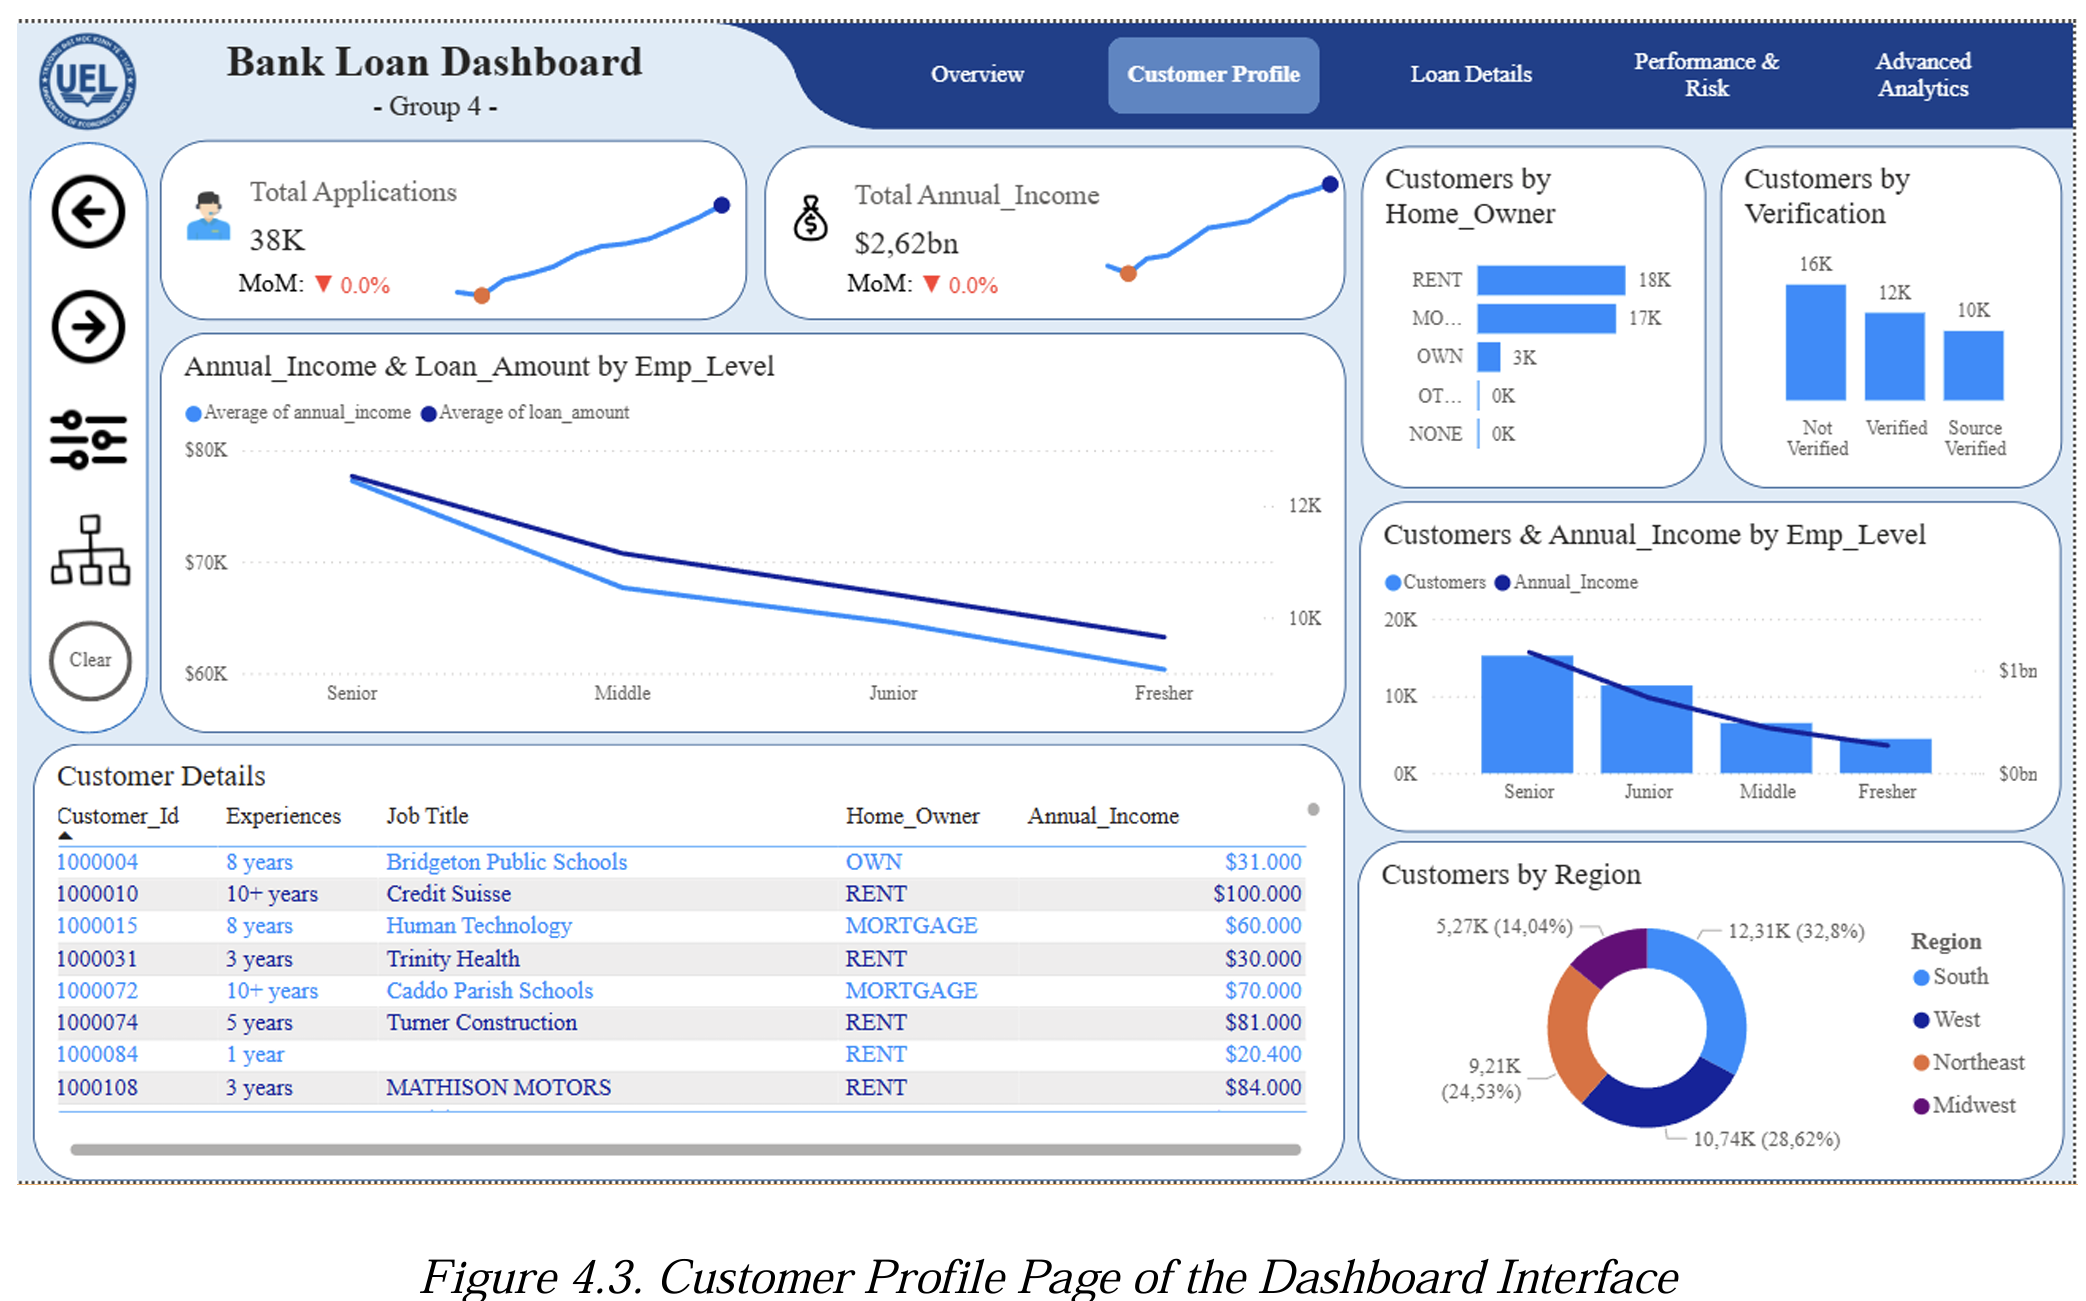

This screenshot's page, from the dashboard's own definition file:
{"tool":"powerbi","page":{"name":"Customer Profile","canvas":[1280,720],"ordinal":2},"visuals":[{"type":"shape","box":[0,0,1280,720],"z":0},{"type":"shape","box":[482,0,792,66],"z":0,"group":"g5"},{"type":"pageNavigator","box":[532.5,8.8,132.6,48.8],"z":0,"group":"g6"},{"type":"group","id":"g1","title":"Group 7","box":[88.6,72.9,365.9,111.8],"z":0,"group":"g7"},{"type":"group","id":"g2","title":"Group 9","box":[88.6,72.9,365.9,111.8],"z":0,"group":"g1"},{"type":"group","id":"g3","title":"Group 4","box":[88.6,72.9,365.9,111.8],"z":0,"group":"g2"},{"type":"group","id":"g4","title":"Group 3","box":[88.6,72.9,365.9,111.8],"z":0,"group":"g3"},{"type":"cardVisual","fields":{"Data":["Measure.Total Applications"]},"box":[88.6,72.9,365.9,111.8],"z":0,"group":"g4"},{"type":"cardVisual","fields":{"Data":["Sum(fact_loan.annual_income)"]},"box":[464.8,77.1,361.8,108.1],"z":0,"group":"g8"},{"type":"shape","box":[381.5,0,898.8,42],"z":1000},{"type":"shape","box":[532,0,748.6,65.7],"z":1000,"group":"g5"},{"type":"pageNavigator","box":[827.1,8.8,132.6,48.8],"z":1000,"group":"g6"},{"type":"lineChart","fields":{"Category":["Dim_Time.Date.Variation.Date Hierarchy.Year","Dim_Time.Date.Variation.Date Hierarchy.Month"],"Y":["Measure.Total Applications","Measure.Max Total Applications","Measure.Min Total Applications"]},"box":[258.9,76.2,194.7,105],"z":1000,"group":"g4"},{"type":"lineChart","fields":{"Category":["Dim_Time.Date.Variation.Date Hierarchy.Year","Dim_Time.Date.Variation.Date Hierarchy.Month"],"Y":["Measure.Total Annual Income","Measure.MaxAnnualIncomeByMonth","Measure.MinAnnualIncomeByMonth"]},"box":[663.4,82.1,168.5,100],"z":1000,"group":"g8"},{"type":"image","box":[88.6,95.2,61.2,50.1],"z":1000,"group":"g7"},{"type":"shape","box":[0,0,492.5,83.8],"z":2000},{"type":"pageNavigator","box":[974.4,8.8,132.6,48.8],"z":2000,"group":"g6"},{"type":"shape","title":"Bank Loan Dashboard","box":[118.6,8.6,282.9,31.4],"z":3000},{"type":"pageNavigator","box":[679.8,8.8,132.6,48.8],"z":3000,"group":"g6"},{"type":"image","box":[7.1,0,72.9,72.9],"z":4000},{"type":"pageNavigator","box":[1121.7,8.8,132.6,48.8],"z":4000,"group":"g6"},{"type":"shape","title":"- Group 4 -","box":[214.8,41.9,91,20],"z":5000},{"type":"group","id":"g5","title":"Group 2","box":[482,0,798.6,66],"z":6000},{"type":"tableEx","title":"Customer Details","fields":{"Values":["dim_customer.customer_id","dim_customer.emp_length","dim_customer.emp_title","dim_customer.home_ownership","Sum(fact_loan.annual_income)"]},"box":[10,448.6,817.1,272],"z":7000},{"type":"group","id":"g6","title":"Group 1","box":[532.5,8.8,721.2,48.8],"z":8000},{"type":"donutChart","title":"Customers by Region","fields":{"Category":["dim_location.Region"],"Y":["CountNonNull(dim_customer.customer_id)"]},"box":[834.3,508.6,440,211.4],"z":9000},{"type":"lineStackedColumnComboChart","title":"Customers & Annual_Income by Emp_Level","fields":{"Category":["dim_customer.Emp_Level"],"Y":["CountNonNull(dim_customer.customer_id)"],"Y2":["Sum(fact_loan.annual_income)"]},"box":[835.7,297.1,437.1,205.7],"z":10000},{"type":"columnChart","title":"Customers by Verification","fields":{"Category":["dim_verification.verification_status"],"Y":["CountNonNull(dim_customer.customer_id)"]},"box":[1060,77.1,212.9,212.9],"z":11000},{"type":"barChart","title":"Customers by Home_Owner","fields":{"Category":["dim_customer.home_ownership"],"Y":["CountNonNull(dim_customer.customer_id)"]},"box":[837.1,77.1,214.3,212.9],"z":12000},{"type":"lineChart","title":"Annual_Income & Loan_Amount by Emp_Level","fields":{"Y":["Avg(fact_loan.annual_income)"],"Category":["dim_customer.Emp_Level"],"Y2":["Avg(fact_loan.loan_amount)"]},"box":[88.6,192.9,738.6,248.6],"z":13000},{"type":"shape","box":[7.4,74.1,74.1,367.8],"z":14000},{"type":"actionButton","box":[19.3,372.2,51.9,50.4],"z":15000},{"type":"image","box":[14.8,158.7,59.3,59.3],"z":16000},{"type":"image","box":[14.8,229.8,59.3,59.3],"z":17000},{"type":"card","title":"Mom","fields":{"Values":["Measure.Application Growth Display"]},"box":[152.7,132.2,109.3,64],"z":18000,"group":"g9"},{"type":"card","title":"Mom","fields":{"Values":["Measure.Annual Income Growth Display"]},"box":[532.9,132.5,108.5,64],"z":18000,"group":"g10"},{"type":"image","box":[16.3,298.1,59.3,59.3],"z":18000},{"type":"image","box":[14.8,87.5,59.3,59.3],"z":19000},{"type":"group","id":"g7","title":"Group 10","box":[88.6,72.9,365.9,111.8],"z":20000},{"type":"group","id":"g8","title":"Group 3","box":[464.8,77.1,367.1,108.1],"z":21000},{"type":"image","box":[474.4,101.6,40.3,40.3],"z":22000},{"type":"group","id":"g9","title":"Group 12","box":[129.4,132.2,132.2,64],"z":25001},{"type":"group","id":"g10","title":"Group 12","box":[509.2,132.5,132.2,64],"z":25002},{"type":"textbox","box":[129.4,148.8,61.6,38.4],"z":30000,"group":"g9"},{"type":"textbox","box":[509.2,149.1,61.6,38.4],"z":30000,"group":"g10"}]}

Visuals, with their boxes on the page's 1280x720 design canvas (x1, y1, x2, y2). These are canvas units, not pixel positions in the 2086x1301 screenshot, which may show the page scaled, cropped or inside an application window:
shape: (x1=0, y1=0, x2=1280, y2=720)
shape: (x1=482, y1=0, x2=1274, y2=66)
pageNavigator: (x1=532, y1=9, x2=665, y2=58)
"Group 7" group: (x1=89, y1=73, x2=454, y2=185)
"Group 9" group: (x1=89, y1=73, x2=454, y2=185)
"Group 4" group: (x1=89, y1=73, x2=454, y2=185)
"Group 3" group: (x1=89, y1=73, x2=454, y2=185)
cardVisual - Measure.Total Applications: (x1=89, y1=73, x2=454, y2=185)
cardVisual - Sum(fact_loan.annual_income): (x1=465, y1=77, x2=827, y2=185)
shape: (x1=382, y1=0, x2=1280, y2=42)
shape: (x1=532, y1=0, x2=1281, y2=66)
pageNavigator: (x1=827, y1=9, x2=960, y2=58)
lineChart - Dim_Time.Date.Variation.Date Hierarchy.Year x Dim_Time.Date.Variation.Date Hierarchy.Month: (x1=259, y1=76, x2=454, y2=181)
lineChart - Dim_Time.Date.Variation.Date Hierarchy.Year x Dim_Time.Date.Variation.Date Hierarchy.Month: (x1=663, y1=82, x2=832, y2=182)
image: (x1=89, y1=95, x2=150, y2=145)
shape: (x1=0, y1=0, x2=492, y2=84)
pageNavigator: (x1=974, y1=9, x2=1107, y2=58)
"Bank Loan Dashboard" shape: (x1=119, y1=9, x2=402, y2=40)
pageNavigator: (x1=680, y1=9, x2=812, y2=58)
image: (x1=7, y1=0, x2=80, y2=73)
pageNavigator: (x1=1122, y1=9, x2=1254, y2=58)
"- Group 4 -" shape: (x1=215, y1=42, x2=306, y2=62)
"Group 2" group: (x1=482, y1=0, x2=1281, y2=66)
"Customer Details" tableEx: (x1=10, y1=449, x2=827, y2=721)
"Group 1" group: (x1=532, y1=9, x2=1254, y2=58)
"Customers by Region" donutChart: (x1=834, y1=509, x2=1274, y2=720)
"Customers & Annual_Income by Emp_Level" lineStackedColumnComboChart: (x1=836, y1=297, x2=1273, y2=503)
"Customers by Verification" columnChart: (x1=1060, y1=77, x2=1273, y2=290)
"Customers by Home_Owner" barChart: (x1=837, y1=77, x2=1051, y2=290)
"Annual_Income & Loan_Amount by Emp_Level" lineChart: (x1=89, y1=193, x2=827, y2=442)
shape: (x1=7, y1=74, x2=82, y2=442)
actionButton: (x1=19, y1=372, x2=71, y2=423)
image: (x1=15, y1=159, x2=74, y2=218)
image: (x1=15, y1=230, x2=74, y2=289)
"Mom" card: (x1=153, y1=132, x2=262, y2=196)
"Mom" card: (x1=533, y1=132, x2=641, y2=196)
image: (x1=16, y1=298, x2=76, y2=357)
image: (x1=15, y1=88, x2=74, y2=147)
"Group 10" group: (x1=89, y1=73, x2=454, y2=185)
"Group 3" group: (x1=465, y1=77, x2=832, y2=185)
image: (x1=474, y1=102, x2=515, y2=142)
"Group 12" group: (x1=129, y1=132, x2=262, y2=196)
"Group 12" group: (x1=509, y1=132, x2=641, y2=196)
textbox: (x1=129, y1=149, x2=191, y2=187)
textbox: (x1=509, y1=149, x2=571, y2=188)
